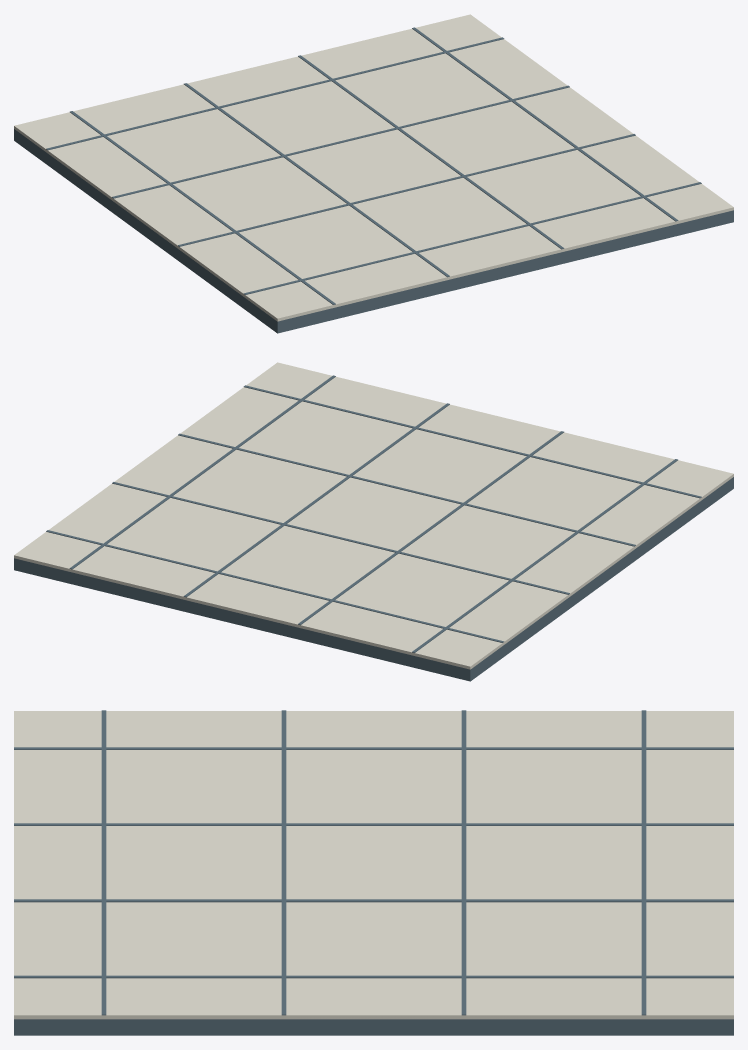
The model's file is voxel-city-districts-sidewalk-straight-a8b57ac7__24824.glb.
3 views of the same model, one above another, from view 1: azimuth 30°, elevation 25°; view 2: azimuth 150°, elevation 25°; view 3: azimuth 270°, elevation 25° (orthographic). The views are drawn at different scales.
Parts seen in each view (by area): view 1: sidewalk-straight-concrete, sidewalk-straight-dark; view 2: sidewalk-straight-concrete, sidewalk-straight-dark; view 3: sidewalk-straight-concrete, sidewalk-straight-dark.
Part boxes in pixels (left/top/right/bottom): sidewalk-straight-concrete: left=14, top=14, right=733, bottom=321; sidewalk-straight-dark: left=14, top=27, right=733, bottom=333; sidewalk-straight-concrete: left=14, top=362, right=733, bottom=669; sidewalk-straight-dark: left=14, top=375, right=733, bottom=681; sidewalk-straight-concrete: left=14, top=711, right=733, bottom=1019; sidewalk-straight-dark: left=14, top=710, right=733, bottom=1035.
Size of the model in its own units: 8 by 0.2598 by 8.
